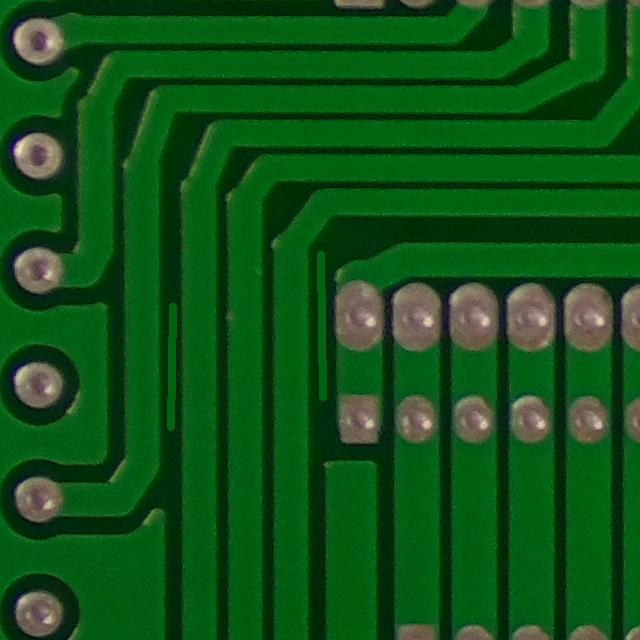spurious_copper: (299, 234, 341, 406)
